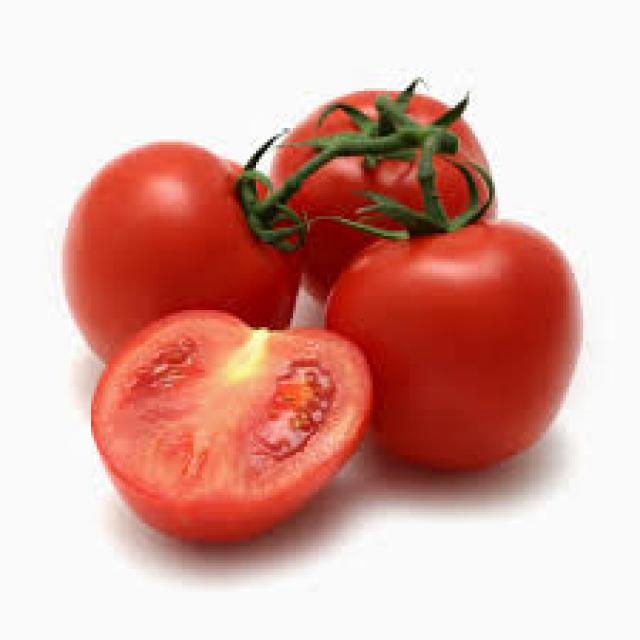organic waste: (319, 211, 583, 472), (94, 304, 372, 549), (57, 136, 301, 378), (264, 85, 498, 308)
